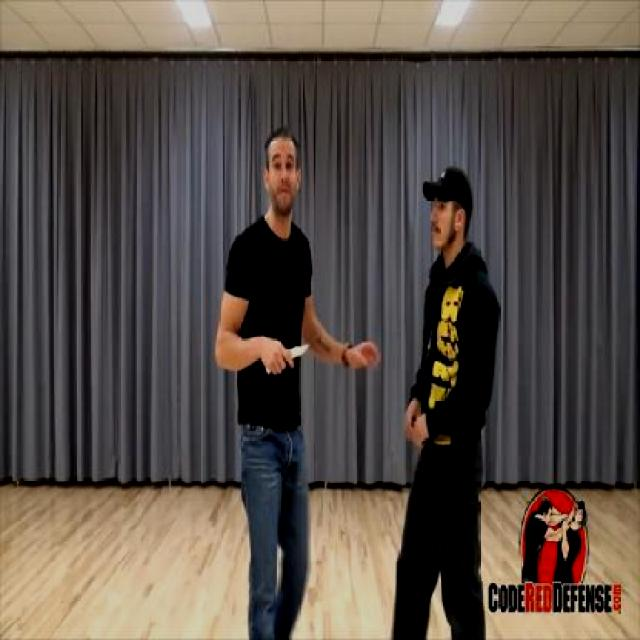knife: (262, 334, 310, 378)
